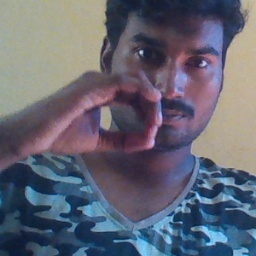O: (24, 65, 164, 158)
